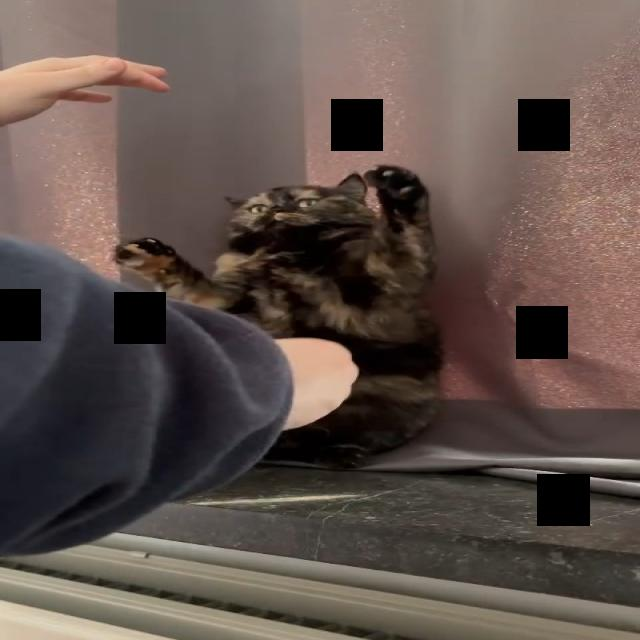authorized: (211, 164, 445, 469)
